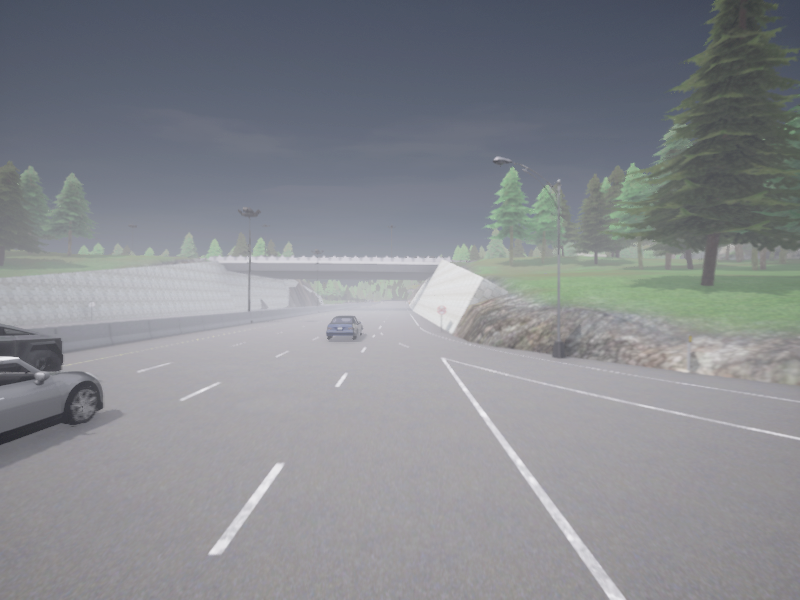vehicle: (0, 357, 102, 444), (0, 323, 63, 370), (326, 316, 362, 338)
